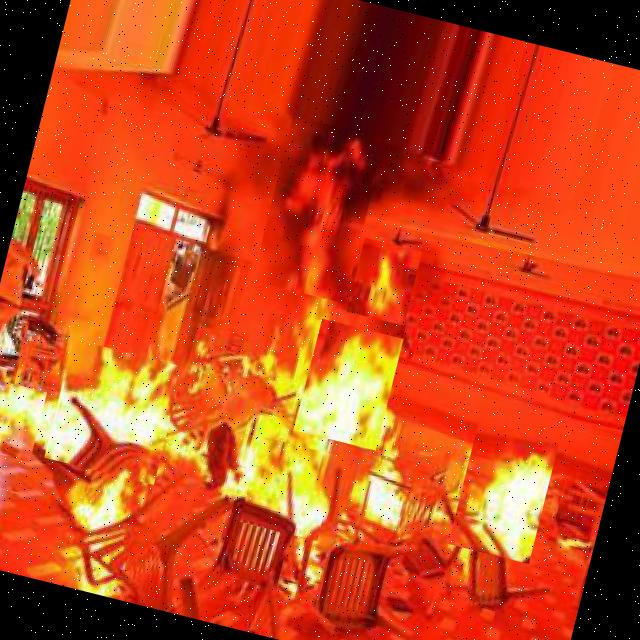fire: (252, 115, 384, 304), (44, 338, 182, 484), (448, 421, 559, 564), (294, 318, 403, 451), (239, 436, 338, 541), (346, 238, 422, 326), (0, 375, 46, 462)
